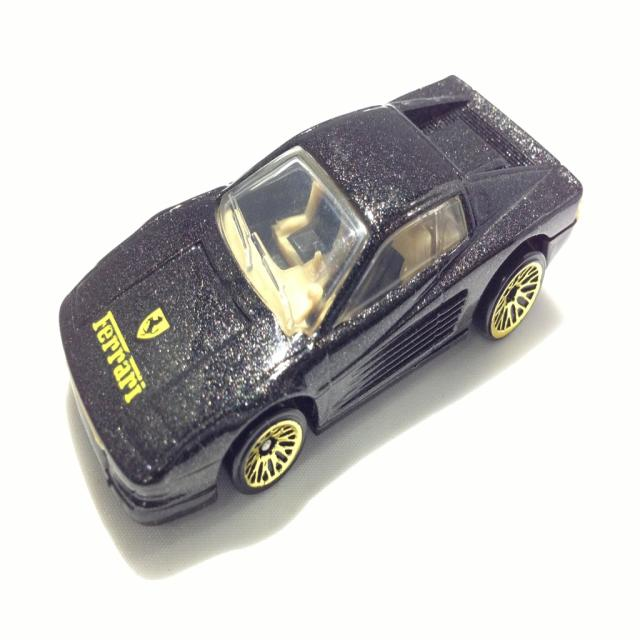car: (56, 68, 584, 529)
